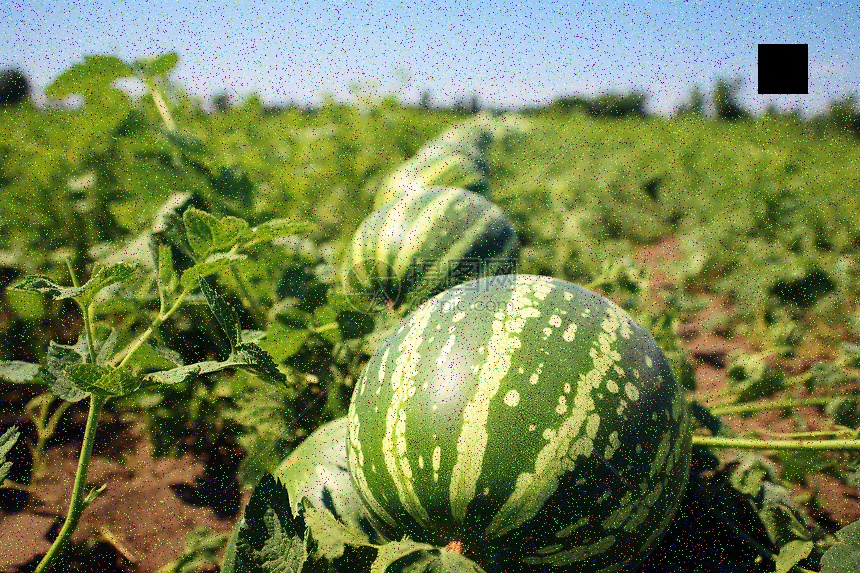watermelon: (343, 272, 684, 565), (345, 184, 517, 316)
